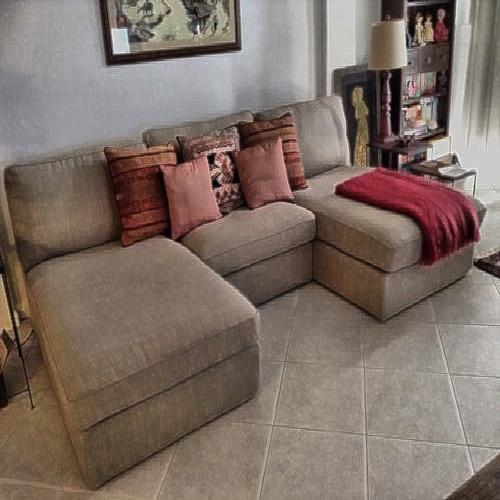sofa: (14, 96, 484, 431)
